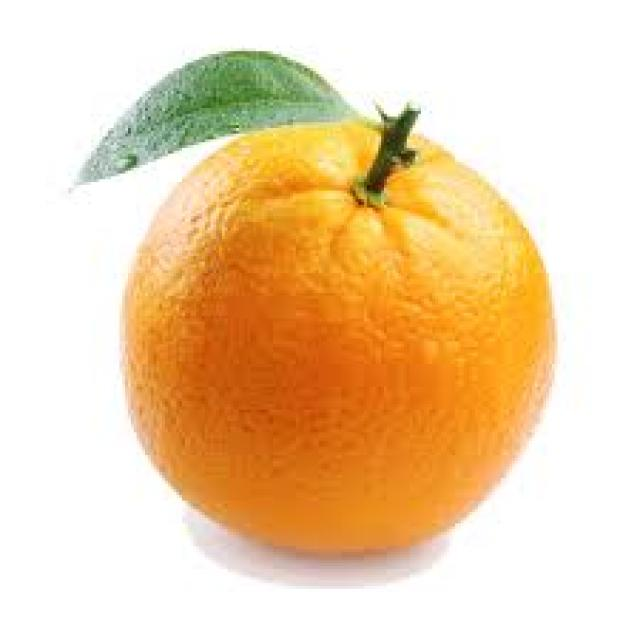Orange: (123, 119, 551, 555)
